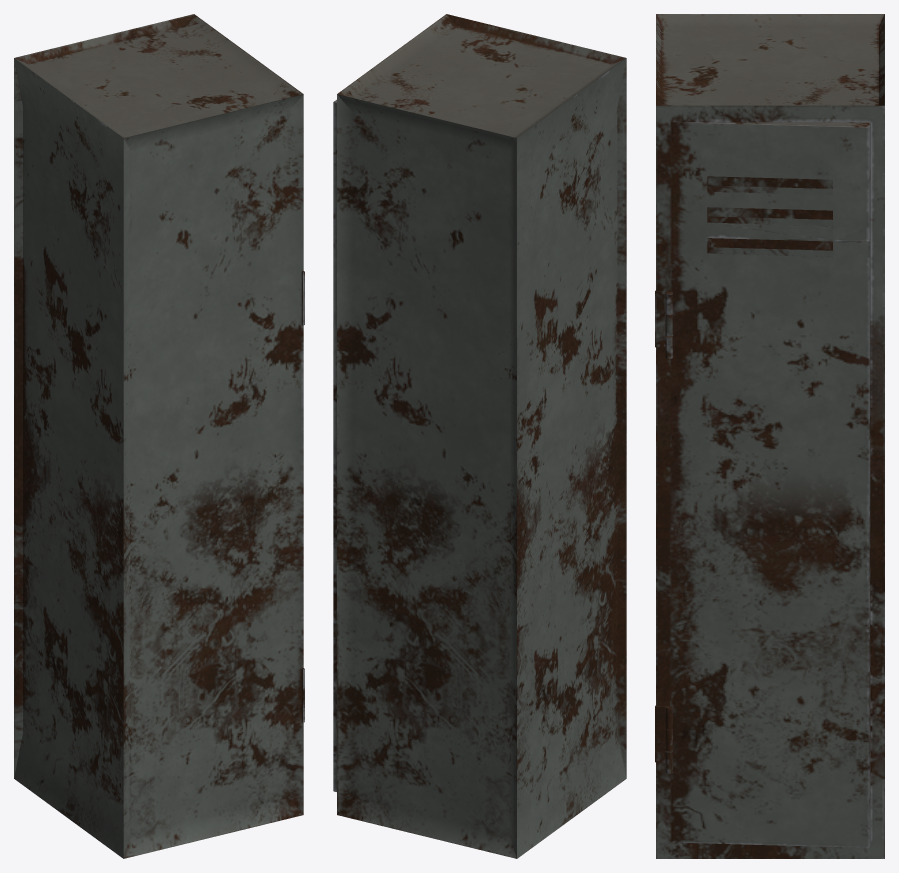
Rendered from rusty_locker.glb.
The picture shows the model from 3 angles, left to right: view 1: azimuth 30°, elevation 25°; view 2: azimuth 150°, elevation 25°; view 3: azimuth 270°, elevation 25°; orthographic projection. The views are drawn at different scales.
Parts seen in each view (by area): view 1: polySurface7; view 2: polySurface7, polySurface1; view 3: polySurface1, polySurface7, polySurface2, polySurface6.
Part boxes in pixels (<box>): polySurface7: <box>14,14,303,858</box>; polySurface7: <box>337,14,626,858</box>; polySurface1: <box>333,100,336,791</box>; polySurface1: <box>670,122,870,847</box>; polySurface7: <box>656,14,884,858</box>; polySurface2: <box>655,290,669,347</box>; polySurface6: <box>655,705,669,762</box>.
Size of the model in its own units: 0.9628 by 3.47 by 0.96.
Materials: 1 (1 with a texture image).
